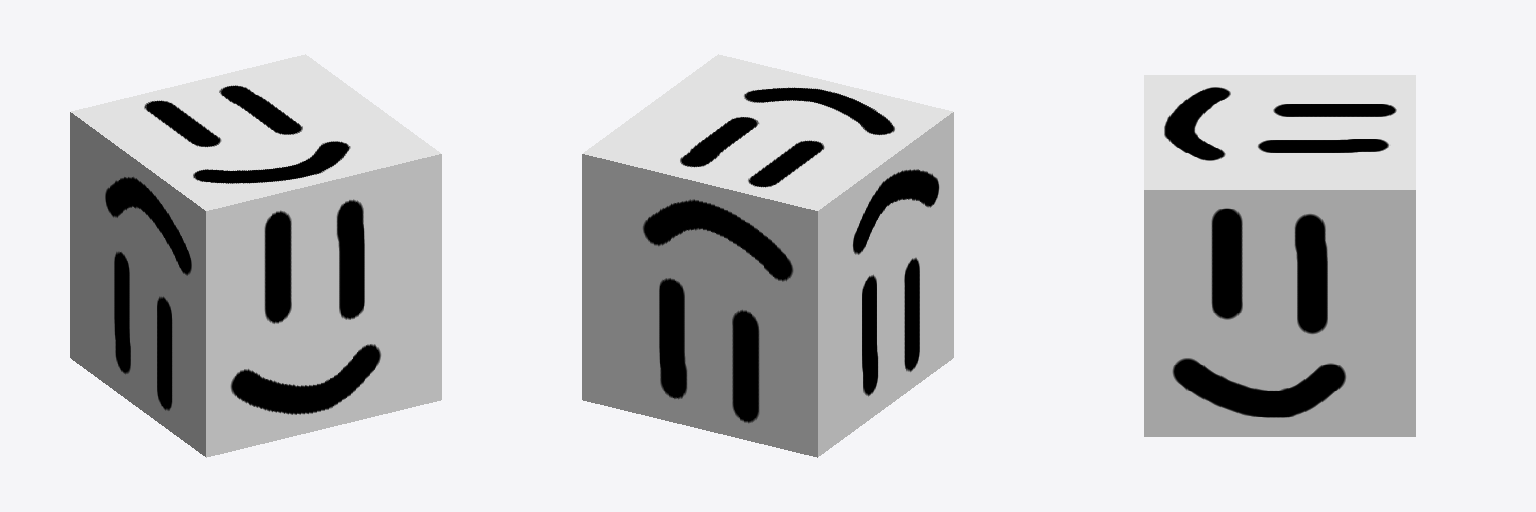
3 renders of one model, left to right at view 1: azimuth 30°, elevation 25°; view 2: azimuth 150°, elevation 25°; view 3: azimuth 270°, elevation 25°, orthographic.
Visible parts, largest first — view 1: Cube; view 2: Cube; view 3: Cube.
Boxes of the visible parts, x1,y1,x2,y2 form: Cube: [70, 54, 441, 457]; Cube: [582, 54, 953, 457]; Cube: [1144, 75, 1415, 436].
Bounding box in the file's own units: 2 × 2 × 2.
1 materials, 1 textured.